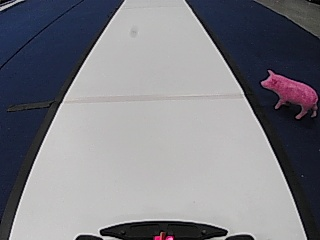pig: (259, 66, 318, 118)
